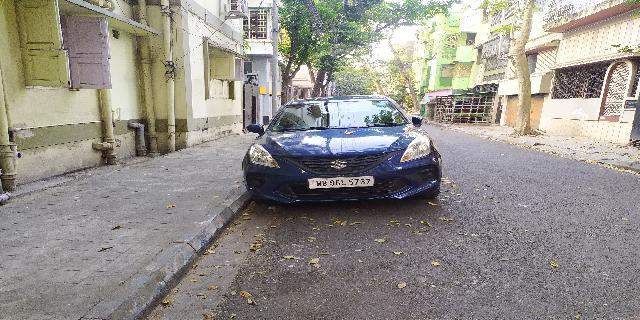Car: (240, 89, 444, 214)
